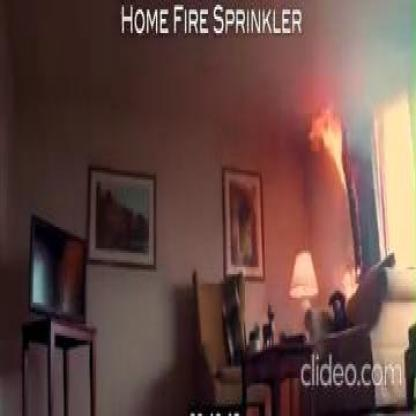fire: (306, 83, 347, 196), (335, 260, 363, 300)
